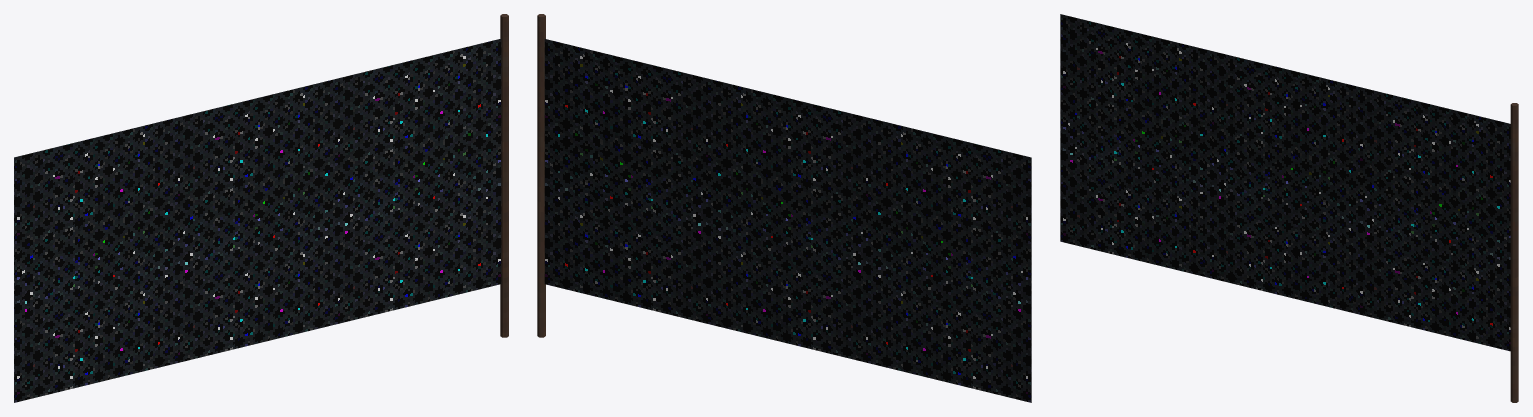
Rendered from metalfence_one_side_no_topbar.glb.
3 views of the same model, side by side, from view 1: azimuth 30°, elevation 25°; view 2: azimuth 150°, elevation 25°; view 3: azimuth 330°, elevation 25° (orthographic). The views are drawn at different scales.
Parts seen in each view (by area): view 1: metalfence_one_side_no_topbar; view 2: metalfence_one_side_no_topbar; view 3: metalfence_one_side_no_topbar.
Boxes of the visible parts, x1,y1,x2,y2 form: metalfence_one_side_no_topbar: (14, 14, 508, 402); metalfence_one_side_no_topbar: (537, 14, 1031, 402); metalfence_one_side_no_topbar: (1060, 14, 1518, 402).
Size of the model in its own units: 2.69 by 1.67 by 0.04.
2 materials, 2 textured.
